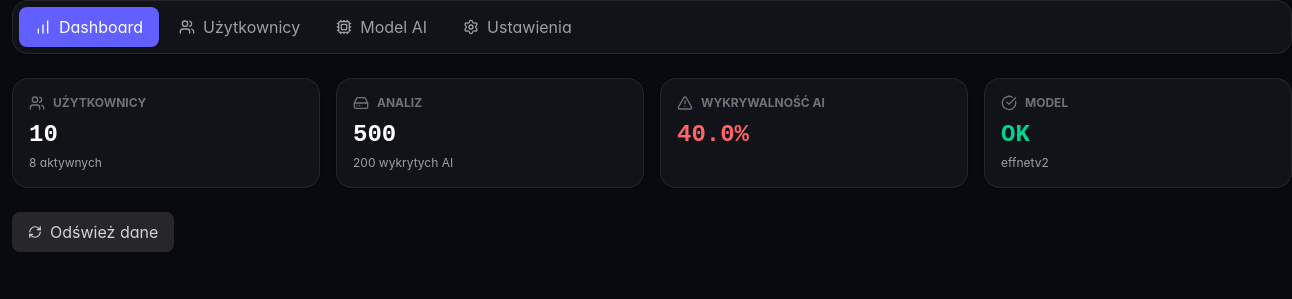
it: AdminPanel › tab navigation › should render all tabs and switch between them
This screenshot has width=1292, height=299.
expect the button "Dashboard" is shown: met, box left=19, top=7, right=159, bottom=47
expect the button "Model AI" is shown: met, box left=320, top=7, right=443, bottom=47
Click the button "Użytkownicy". click: {"x": 240, "y": 27}
box: left=163, top=7, right=316, bottom=47
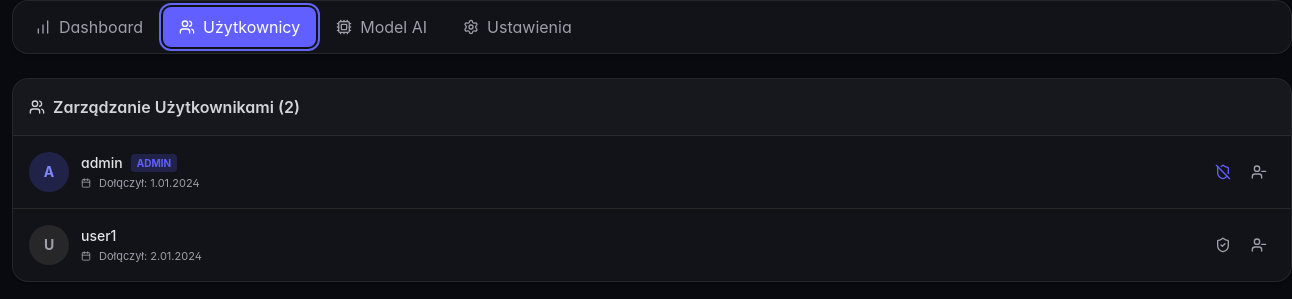
expect the text "admin" is shown: met, box left=81, top=154, right=123, bottom=171
